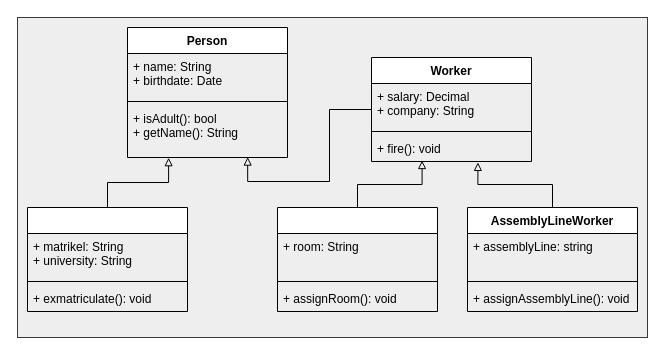
The diagram is 665 pixels wide and 355 high, and some of its shapes have lost their labels. The box of each missing label's shape, as (x1, y1, x2, y2) in pixels:
OfficeWorker: (276, 206, 438, 312)
Student: (26, 206, 188, 312)
